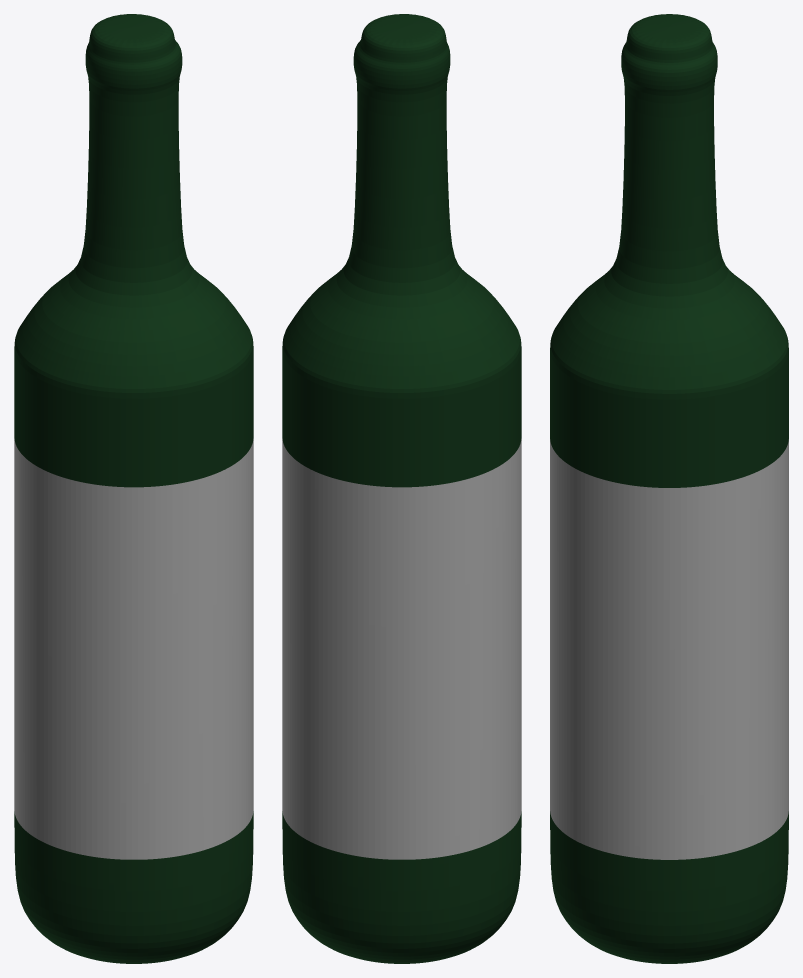
File: Wine bottle.fbx
The picture shows the model from 3 angles, left to right: view 1: azimuth 30°, elevation 25°; view 2: azimuth 150°, elevation 25°; view 3: azimuth 270°, elevation 25°; orthographic projection.
Parts seen in each view (by area): view 1: Cylinder; view 2: Cylinder; view 3: Cylinder.
Part boxes in pixels (x1,y1,x2,y2): Cylinder: [14, 14, 253, 963]; Cylinder: [282, 14, 521, 963]; Cylinder: [550, 14, 788, 963].
Bounding box in the file's own units: 298 × 1249 × 298.
